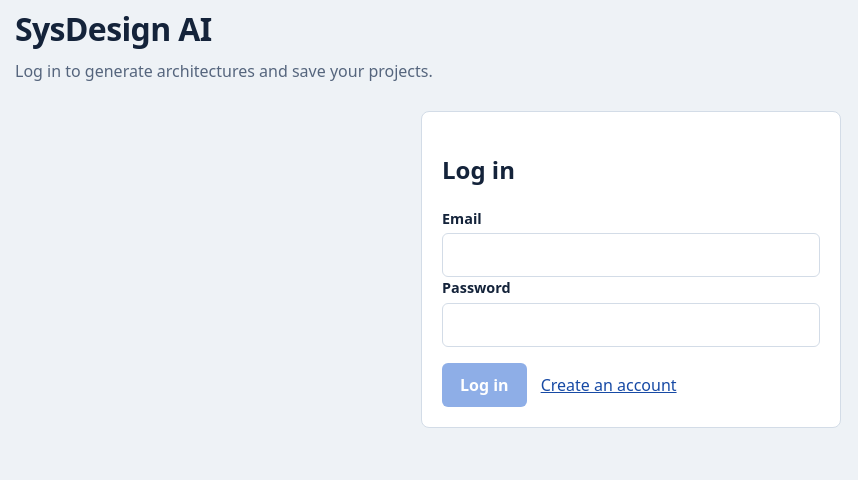
Scenario: AuthForm › shows the server's message when the login is wrong, and stays on the form
The image size is (858, 480).
In the field labelled "Email": (631, 255) top-left (442, 233), bottom-right (820, 277), type "a@example.com"
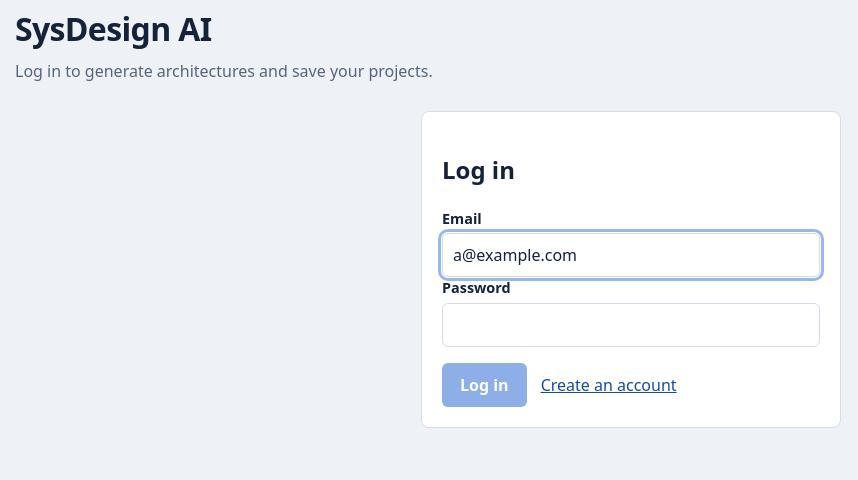
In the password field labelled "Password": (631, 325) top-left (442, 303), bottom-right (820, 347), type "wrongpass1"
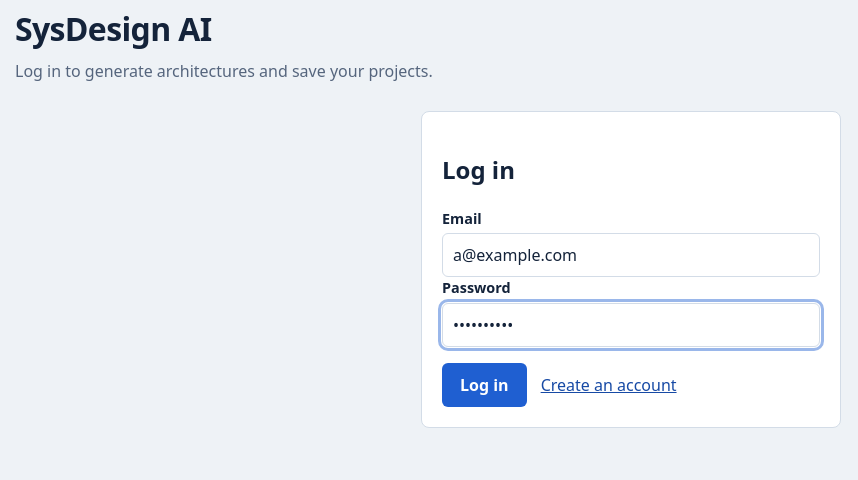
Click the button "Log in": (484, 385) top-left (442, 363), bottom-right (527, 407)
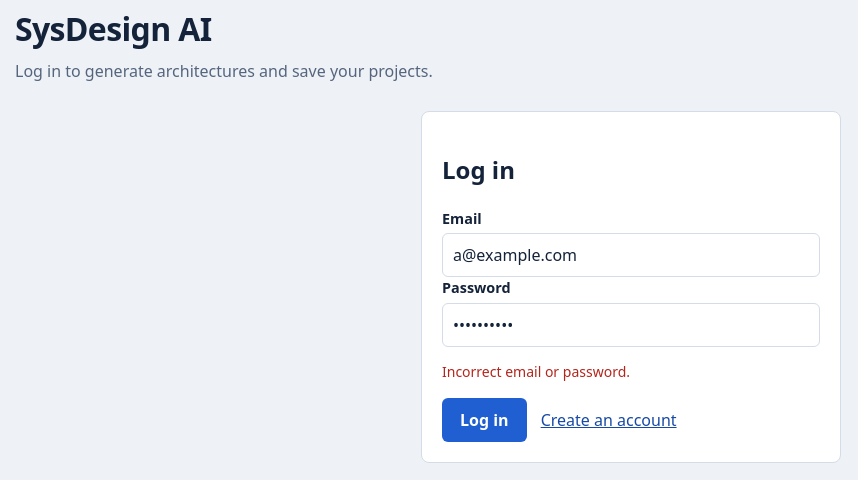
Check: the button "Log in" is enabled, box top-left (442, 398), bottom-right (527, 442)
Check: the message reads "Incorrect email or password.", box top-left (442, 362), bottom-right (630, 381)
